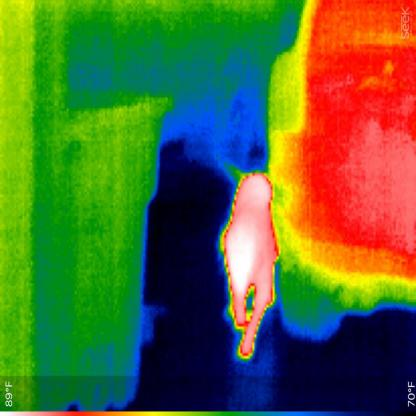dog: (214, 171, 283, 361)
